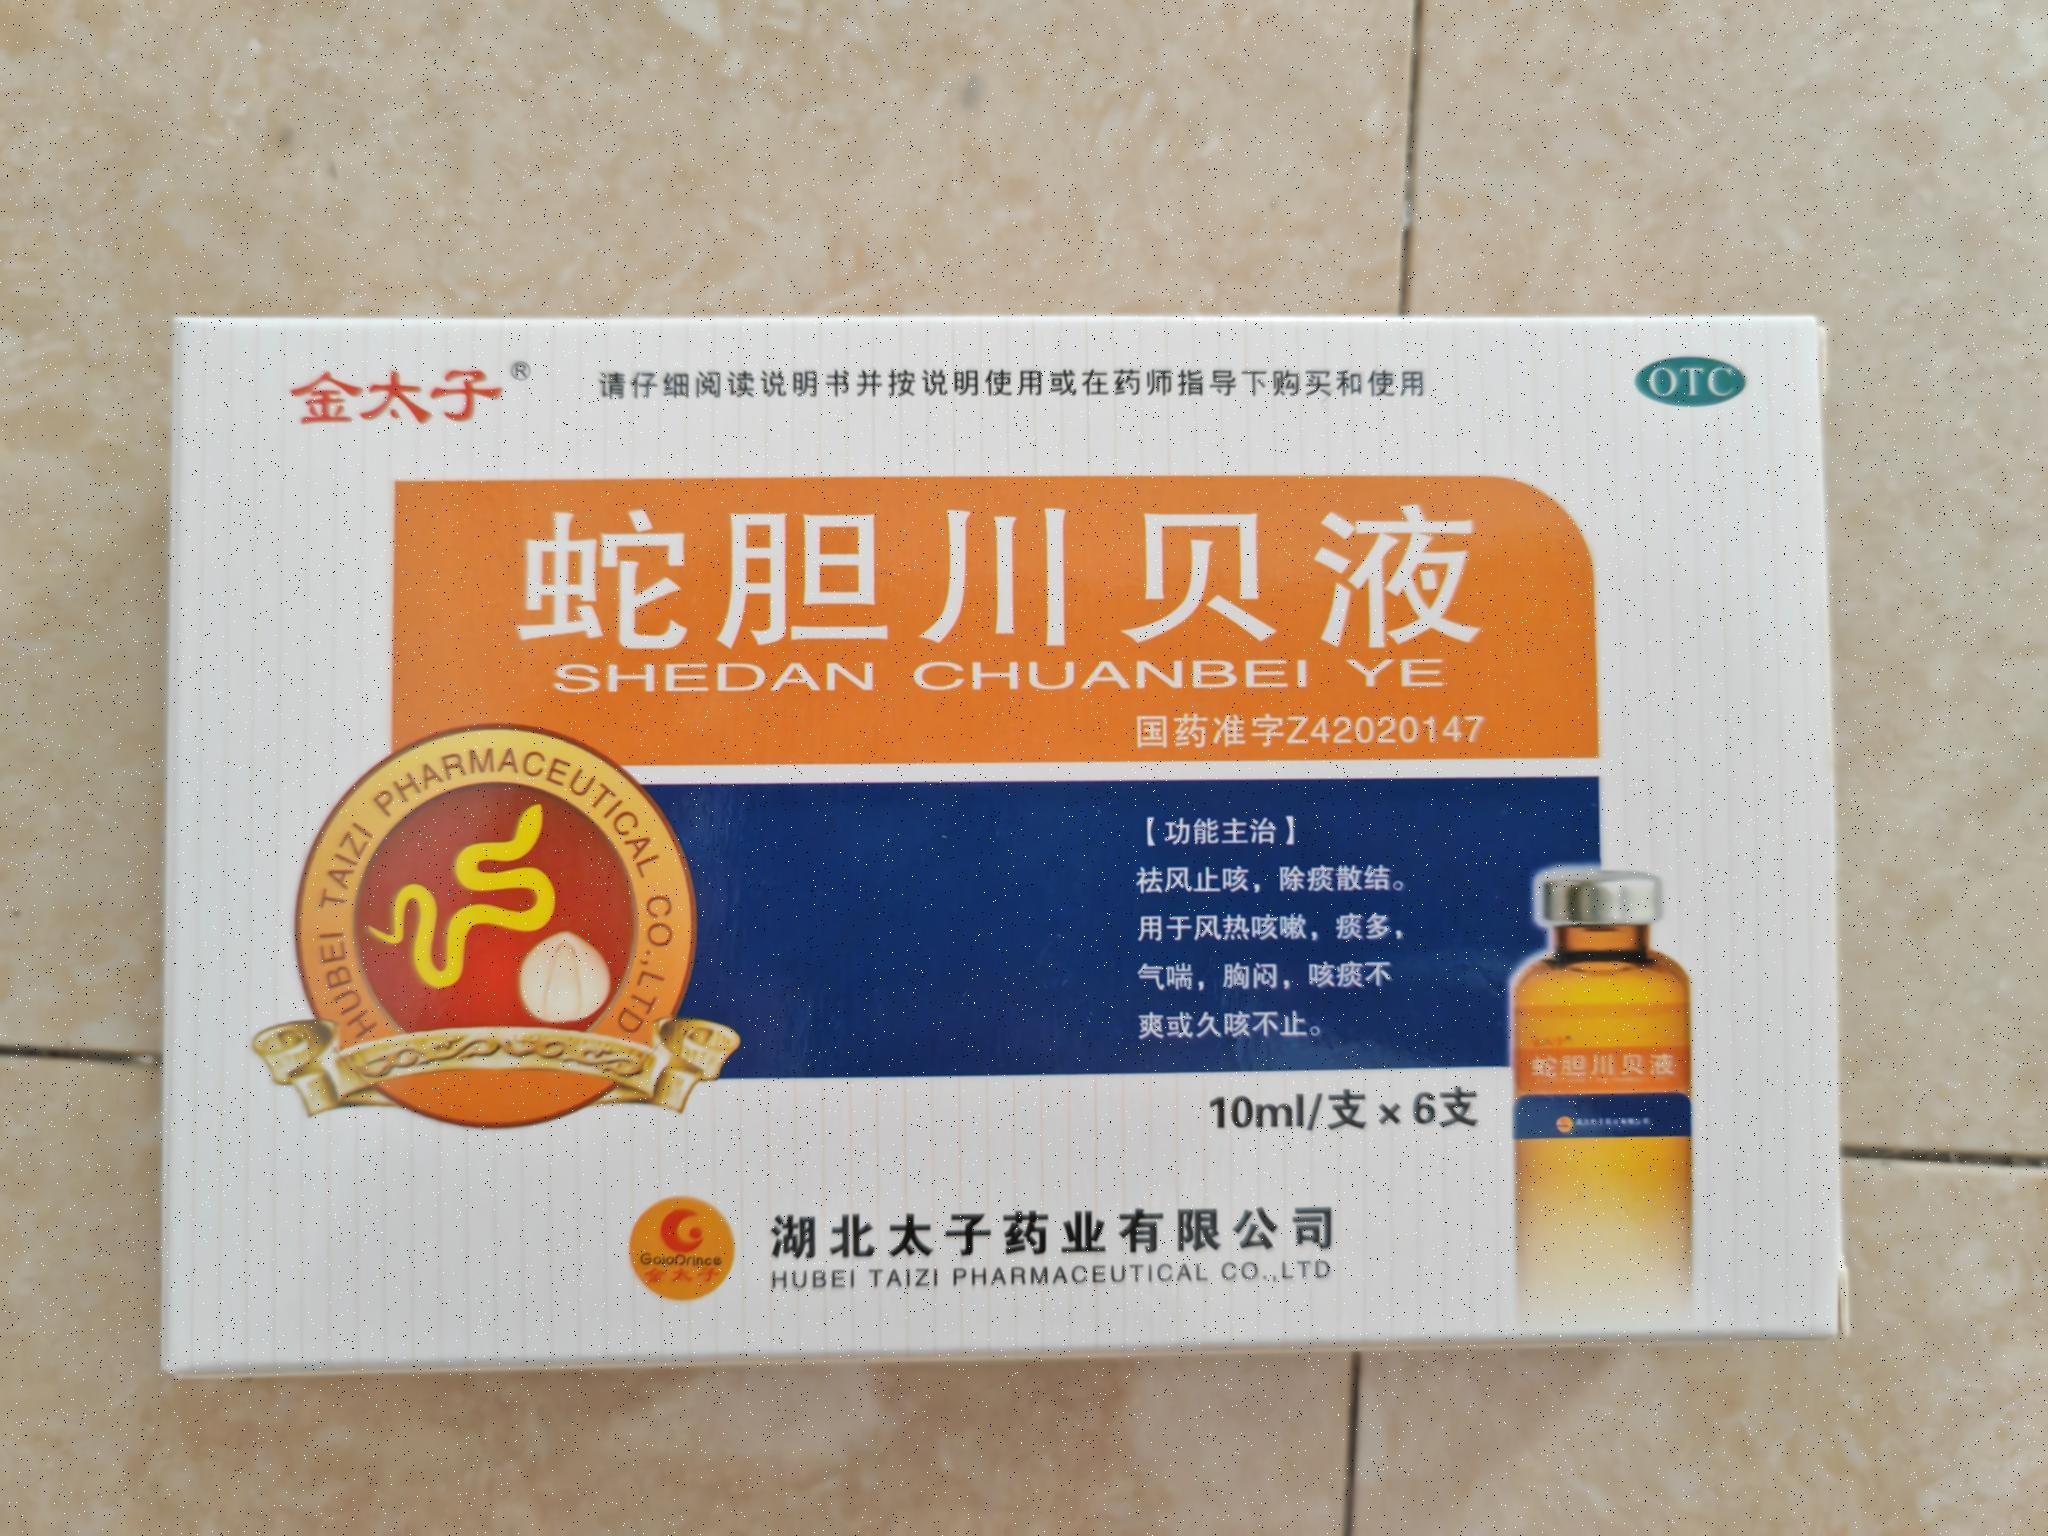Medicine5: (127, 263, 1877, 1415)
